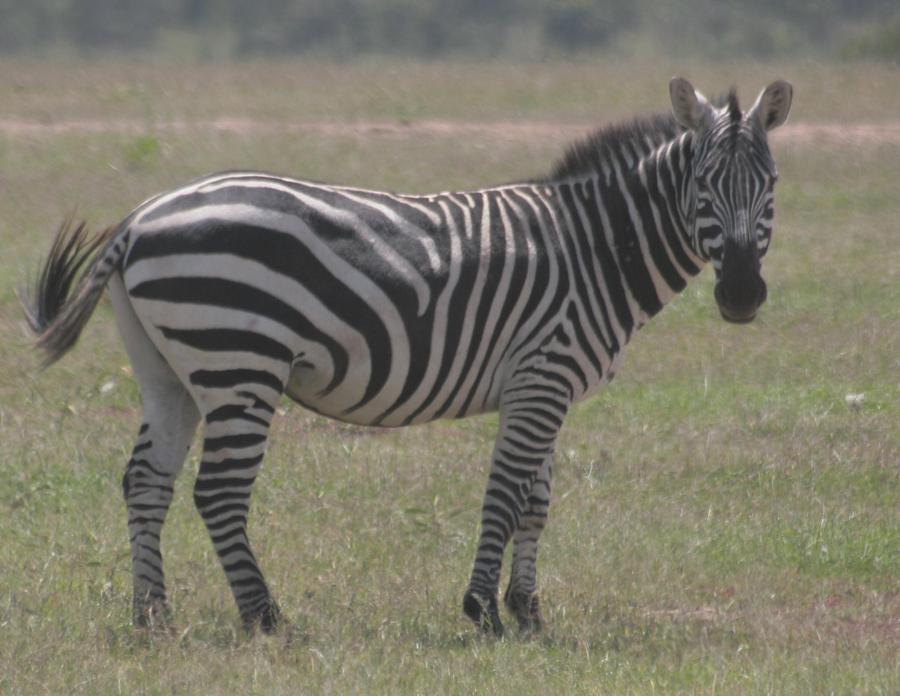zebra_plains: (165, 154, 620, 442)
